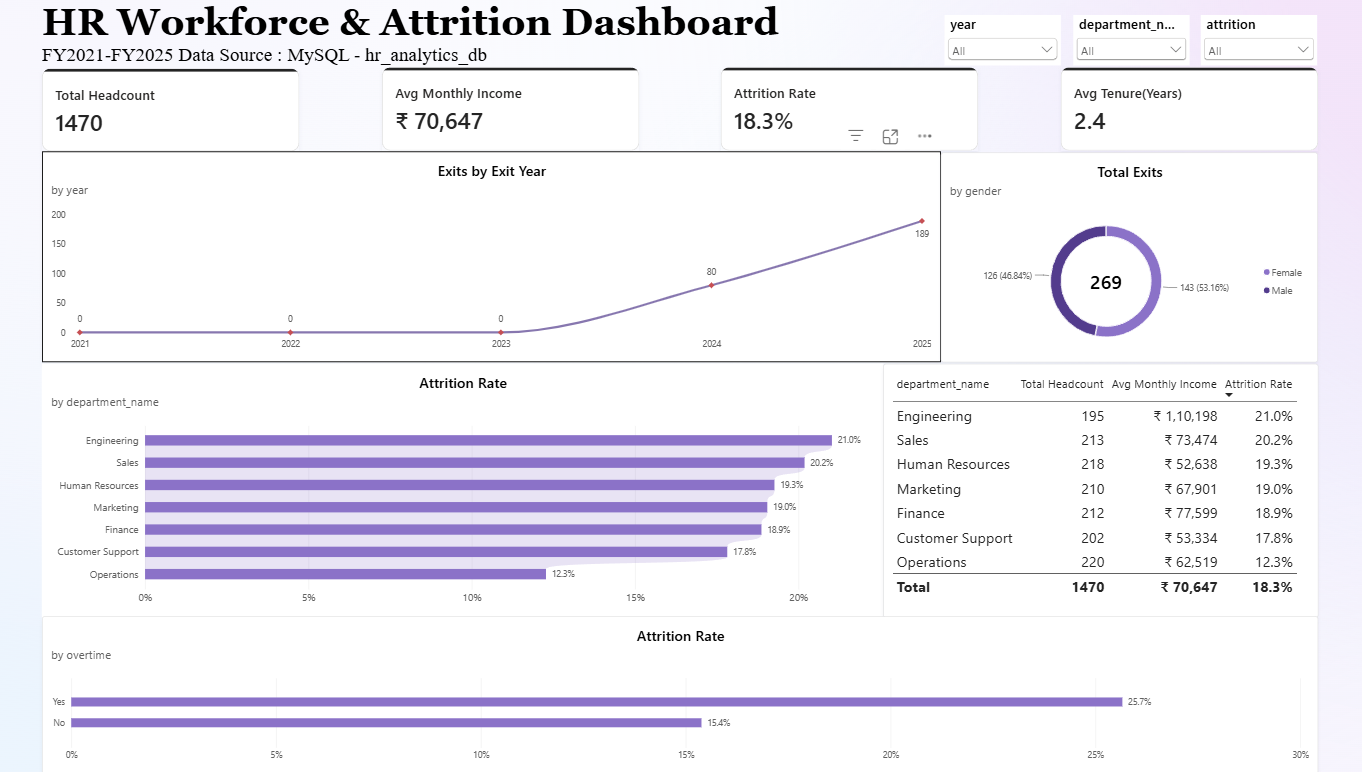

The dashboard page shown, as its layout file describes it:
{"tool":"powerbi","page":{"name":"HR Workforce & Attrition Dashboard","canvas":[1920,1080],"ordinal":0},"visuals":[{"type":"textbox","box":[69.8,0,1044.8,111.6],"z":0},{"type":"slicer","fields":{"Values":["dim_date.year"]},"box":[1329.1,20.9,162.2,70],"z":1000},{"type":"slicer","fields":{"Values":["dim_department.department_name"]},"box":[1508.7,20.9,162.2,70],"z":2000},{"type":"slicer","fields":{"Values":["fact_attrition.attrition"]},"box":[1686.3,20.9,162.2,70],"z":3000},{"type":"cardVisual","fields":{"Data":["_Measures.Total Headcount"]},"box":[69.8,95.9,359.3,115.1],"z":4000},{"type":"cardVisual","fields":{"Data":["_Measures.Attrition Rate"]},"box":[1017.4,94.2,359.3,116.9],"z":5000},{"type":"cardVisual","fields":{"Data":["_Measures.Avg Monthly Income"]},"box":[543.6,94.2,359.3,116.9],"z":6000},{"type":"cardVisual","fields":{"Data":["_Measures.Avg Tenure(Years)"]},"box":[1491.3,94.2,359.3,116.9],"z":7000},{"type":"lineChart","fields":{"Category":["dim_date.year"],"Y":["_Measures.Exits by Exit Year"]},"box":[69.8,211,1254.1,294.8],"z":8000},{"type":"donutChart","fields":{"Category":["fact_attrition.gender"],"Y":["_Measures.Total Exits"]},"box":[1323.8,212.8,526.7,293],"z":9000},{"type":"barChart","fields":{"Category":["dim_department.department_name"],"Y":["_Measures.Attrition Rate"]},"box":[69.8,507.6,1173.8,354.1],"z":10000},{"type":"tableEx","fields":{"Values":["dim_department.department_name","_Measures.Total Headcount","_Measures.Avg Monthly Income","_Measures.Attrition Rate"]},"box":[1243.6,507.6,607,354.1],"z":11000},{"type":"barChart","fields":{"Category":["fact_attrition.overtime"],"Y":["_Measures.Attrition Rate"]},"box":[69.8,859.9,1780.8,219.8],"z":12000},{"type":"tableEx","fields":{"Values":["dim_department.department_name"]},"box":[1918.6,446.5,181.4,269.8],"z":13000}]}

Visuals, with their boxes in screenshot pixels (x1, y1, x2, y2), scaled from the page's 1920x1080 canvas onto the 1362x772 screenshot:
textbox: Rect(50, 0, 791, 80)
slicer - dim_date.year: Rect(943, 15, 1058, 65)
slicer - dim_department.department_name: Rect(1070, 15, 1185, 65)
slicer - fact_attrition.attrition: Rect(1196, 15, 1311, 65)
cardVisual - _Measures.Total Headcount: Rect(50, 69, 304, 151)
cardVisual - _Measures.Attrition Rate: Rect(722, 67, 977, 151)
cardVisual - _Measures.Avg Monthly Income: Rect(386, 67, 640, 151)
cardVisual - _Measures.Avg Tenure(Years): Rect(1058, 67, 1313, 151)
lineChart - dim_date.year x _Measures.Exits by Exit Year: Rect(50, 151, 939, 362)
donutChart - fact_attrition.gender x _Measures.Total Exits: Rect(939, 152, 1313, 362)
barChart - dim_department.department_name x _Measures.Attrition Rate: Rect(50, 363, 882, 616)
tableEx - dim_department.department_name x _Measures.Total Headcount: Rect(882, 363, 1313, 616)
barChart - fact_attrition.overtime x _Measures.Attrition Rate: Rect(50, 615, 1313, 771)
